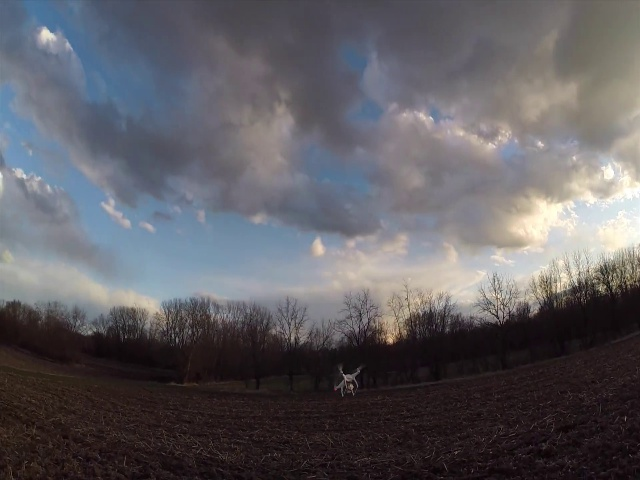drone: (331, 361, 366, 399)
